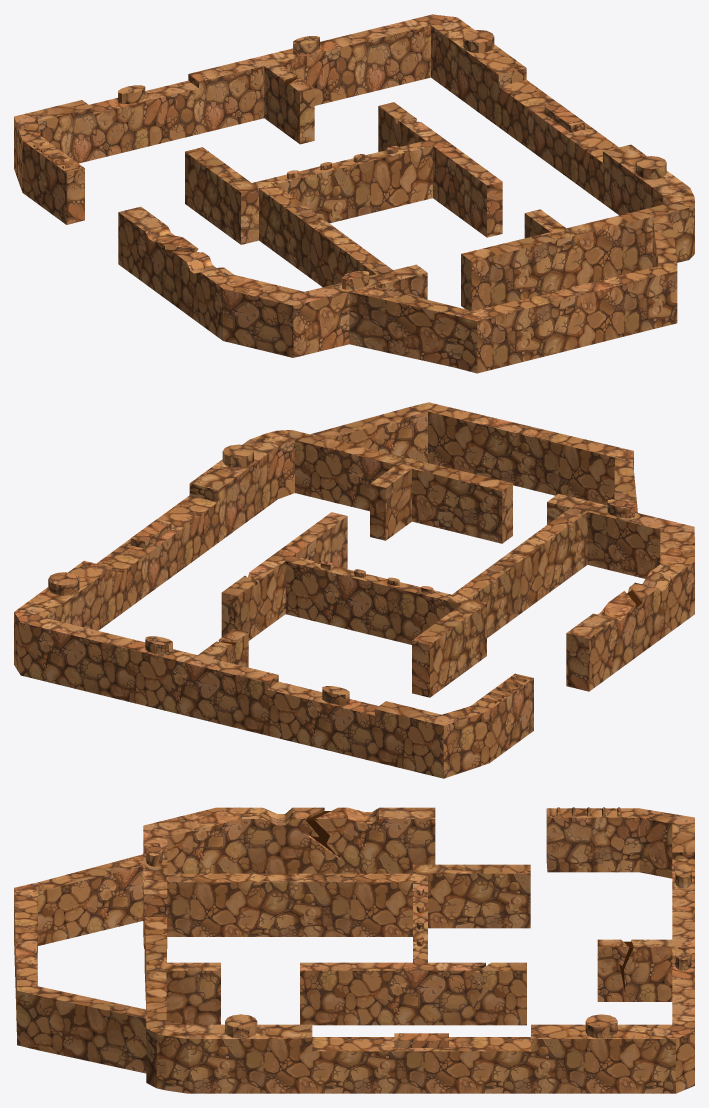
File: wall2.fbx
3 renders of one model, top to bottom at view 1: azimuth 30°, elevation 25°; view 2: azimuth 150°, elevation 25°; view 3: azimuth 270°, elevation 25°, orthographic. The views are drawn at different scales.
Visible parts, largest first — view 1: 4; view 2: 4; view 3: 4.
Part boxes in pixels (x1,y1,x2,y2): 4: (14, 14, 694, 373); 4: (14, 402, 694, 778); 4: (14, 807, 694, 1093).
Size of the model in its own units: 1211 by 159 by 1504.
